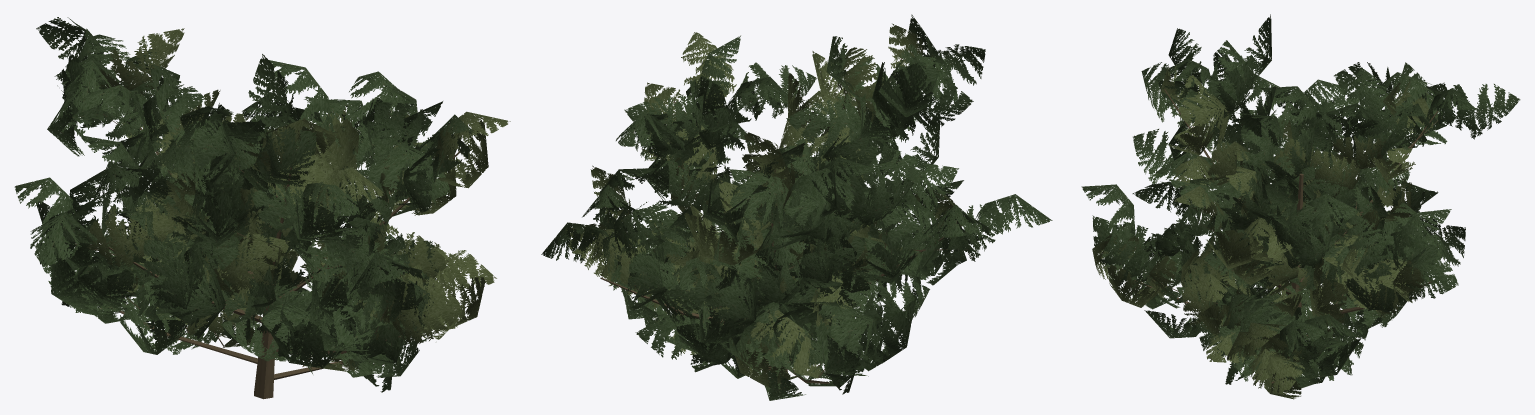
The model's file is SM_CN_Juniper_B_LOD1.glb.
3 views of the same model, side by side, from view 1: azimuth 30°, elevation 25°; view 2: azimuth 150°, elevation 25°; view 3: azimuth 270°, elevation 25° (orthographic). The views are drawn at different scales.
Parts seen in each view (by area): view 1: SM_CN_Juniper_B_LOD1; view 2: SM_CN_Juniper_B_LOD1; view 3: SM_CN_Juniper_B_LOD1.
Part boxes in pixels (bbox=[...]): SM_CN_Juniper_B_LOD1: bbox=[14, 17, 510, 399]; SM_CN_Juniper_B_LOD1: bbox=[541, 14, 1052, 400]; SM_CN_Juniper_B_LOD1: bbox=[1081, 14, 1520, 399].
Bounding box in the file's own units: 3.31 × 2.65 × 3.5.
2 materials, 2 textured.
